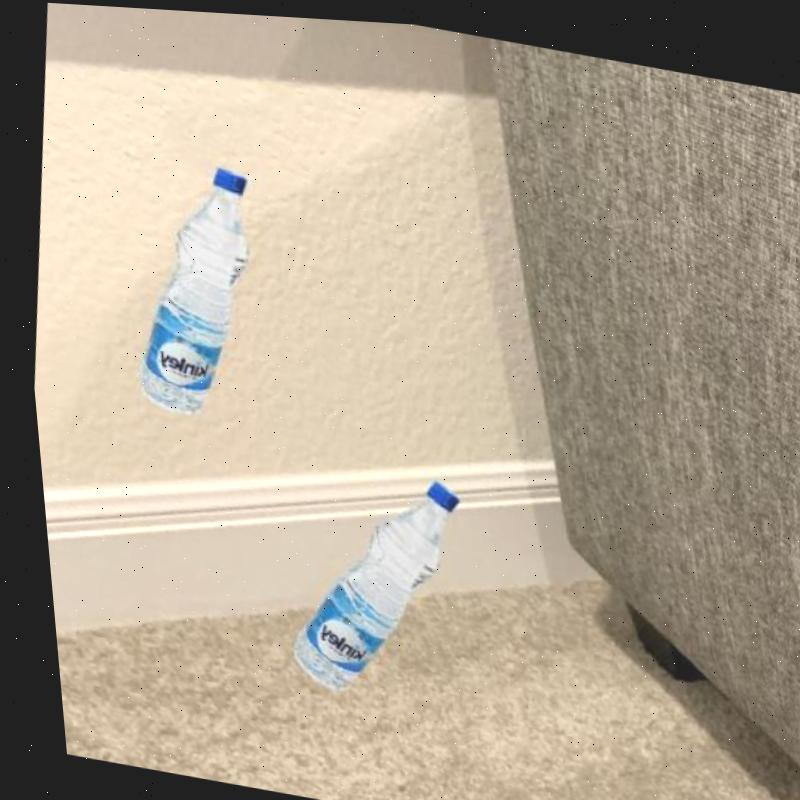botella: (258, 450, 469, 707), (112, 146, 267, 423)
